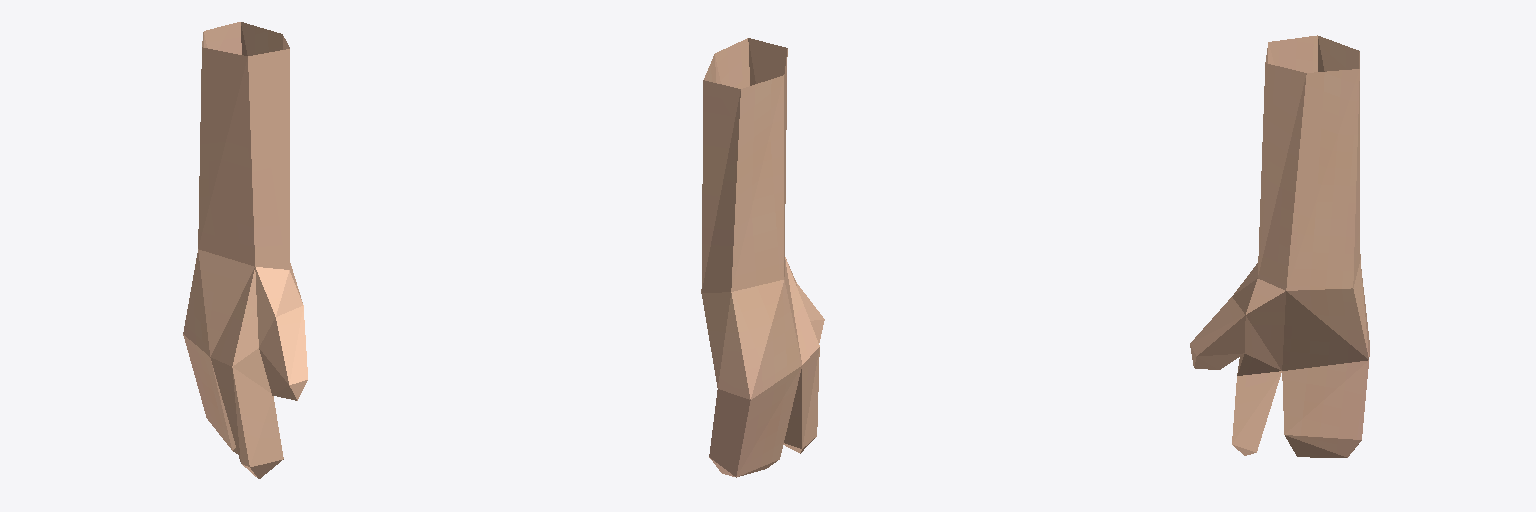
3 renders of one model, left to right at view 1: azimuth 30°, elevation 25°; view 2: azimuth 150°, elevation 25°; view 3: azimuth 270°, elevation 25°, orthographic.
Visible parts, largest first — view 1: antebrazoDipper_der; view 2: antebrazoDipper_der; view 3: antebrazoDipper_der.
Boxes of the visible parts, <box> form: antebrazoDipper_der: <box>183,22,307,478</box>; antebrazoDipper_der: <box>701,38,824,477</box>; antebrazoDipper_der: <box>1190,35,1369,457</box>.
Size of the model in its own units: 0.0826 by 0.4092 by 0.1615.
Materials: 1 (1 with a texture image).